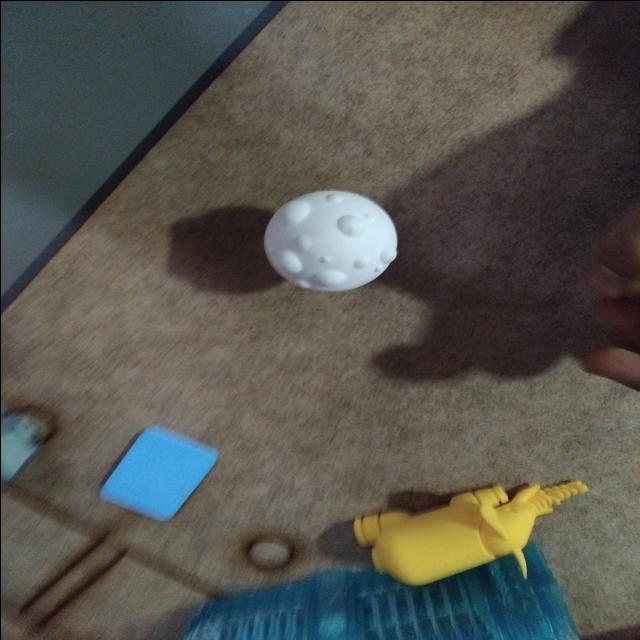Hongo: (252, 176, 418, 304)
